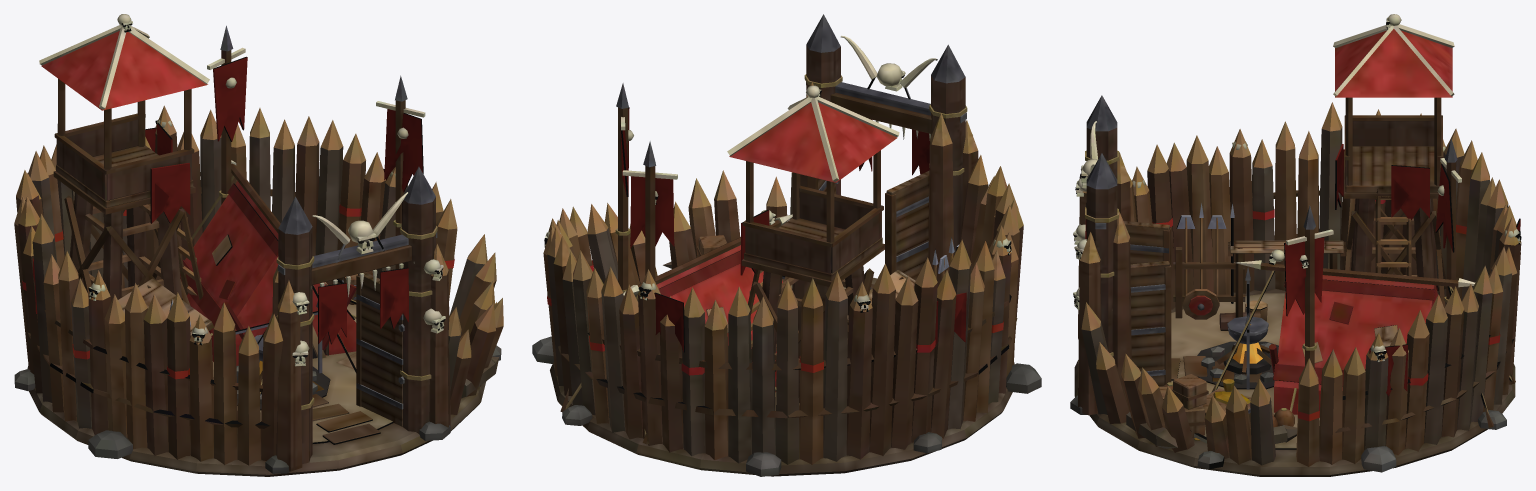
Rendered from bandit_camp.glb.
The picture shows the model from 3 angles, left to right: view 1: azimuth 30°, elevation 25°; view 2: azimuth 150°, elevation 25°; view 3: azimuth 270°, elevation 25°; orthographic projection. The views are drawn at different scales.
Parts seen in each view (by area): view 1: Static_Mesh, Anim_Banners; view 2: Static_Mesh, Anim_Banners; view 3: Static_Mesh, Anim_Banners.
Boxes of the visible parts, x1=… form: Static_Mesh: x1=14, y1=14, x2=503, y2=476; Anim_Banners: x1=33, y1=56, x2=423, y2=344; Static_Mesh: x1=532, y1=14, x2=1041, y2=476; Anim_Banners: x1=547, y1=107, x2=966, y2=352; Static_Mesh: x1=1070, y1=14, x2=1521, y2=476; Anim_Banners: x1=1085, y1=144, x2=1520, y2=396.
Bounding box in the file's own units: 8.41 × 6.63 × 8.15.
Materials: 2 (2 with a texture image).
